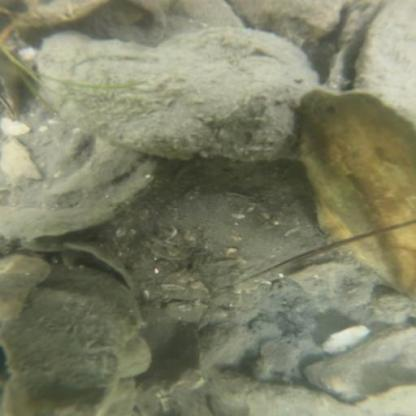3: (48, 245, 138, 301)
Oyster-Closed: (32, 26, 321, 162), (294, 88, 416, 304), (6, 287, 128, 392), (305, 323, 416, 404), (352, 1, 416, 126), (210, 370, 383, 416), (226, 0, 356, 45)
